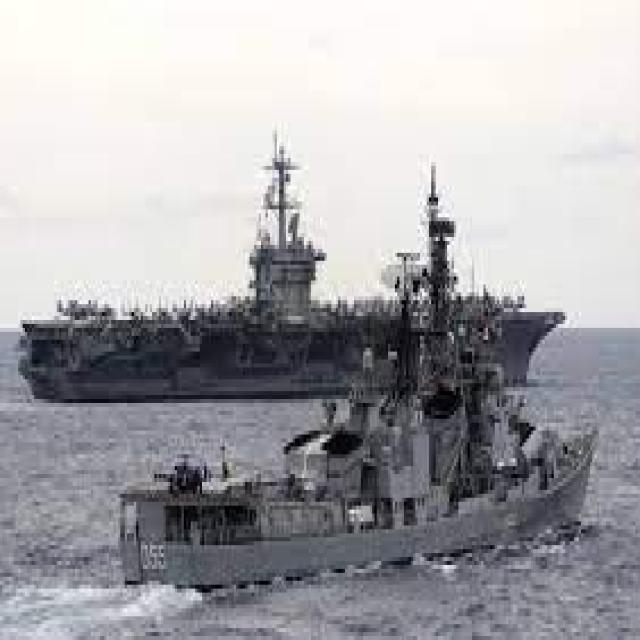navalvessels: (13, 166, 567, 412)
